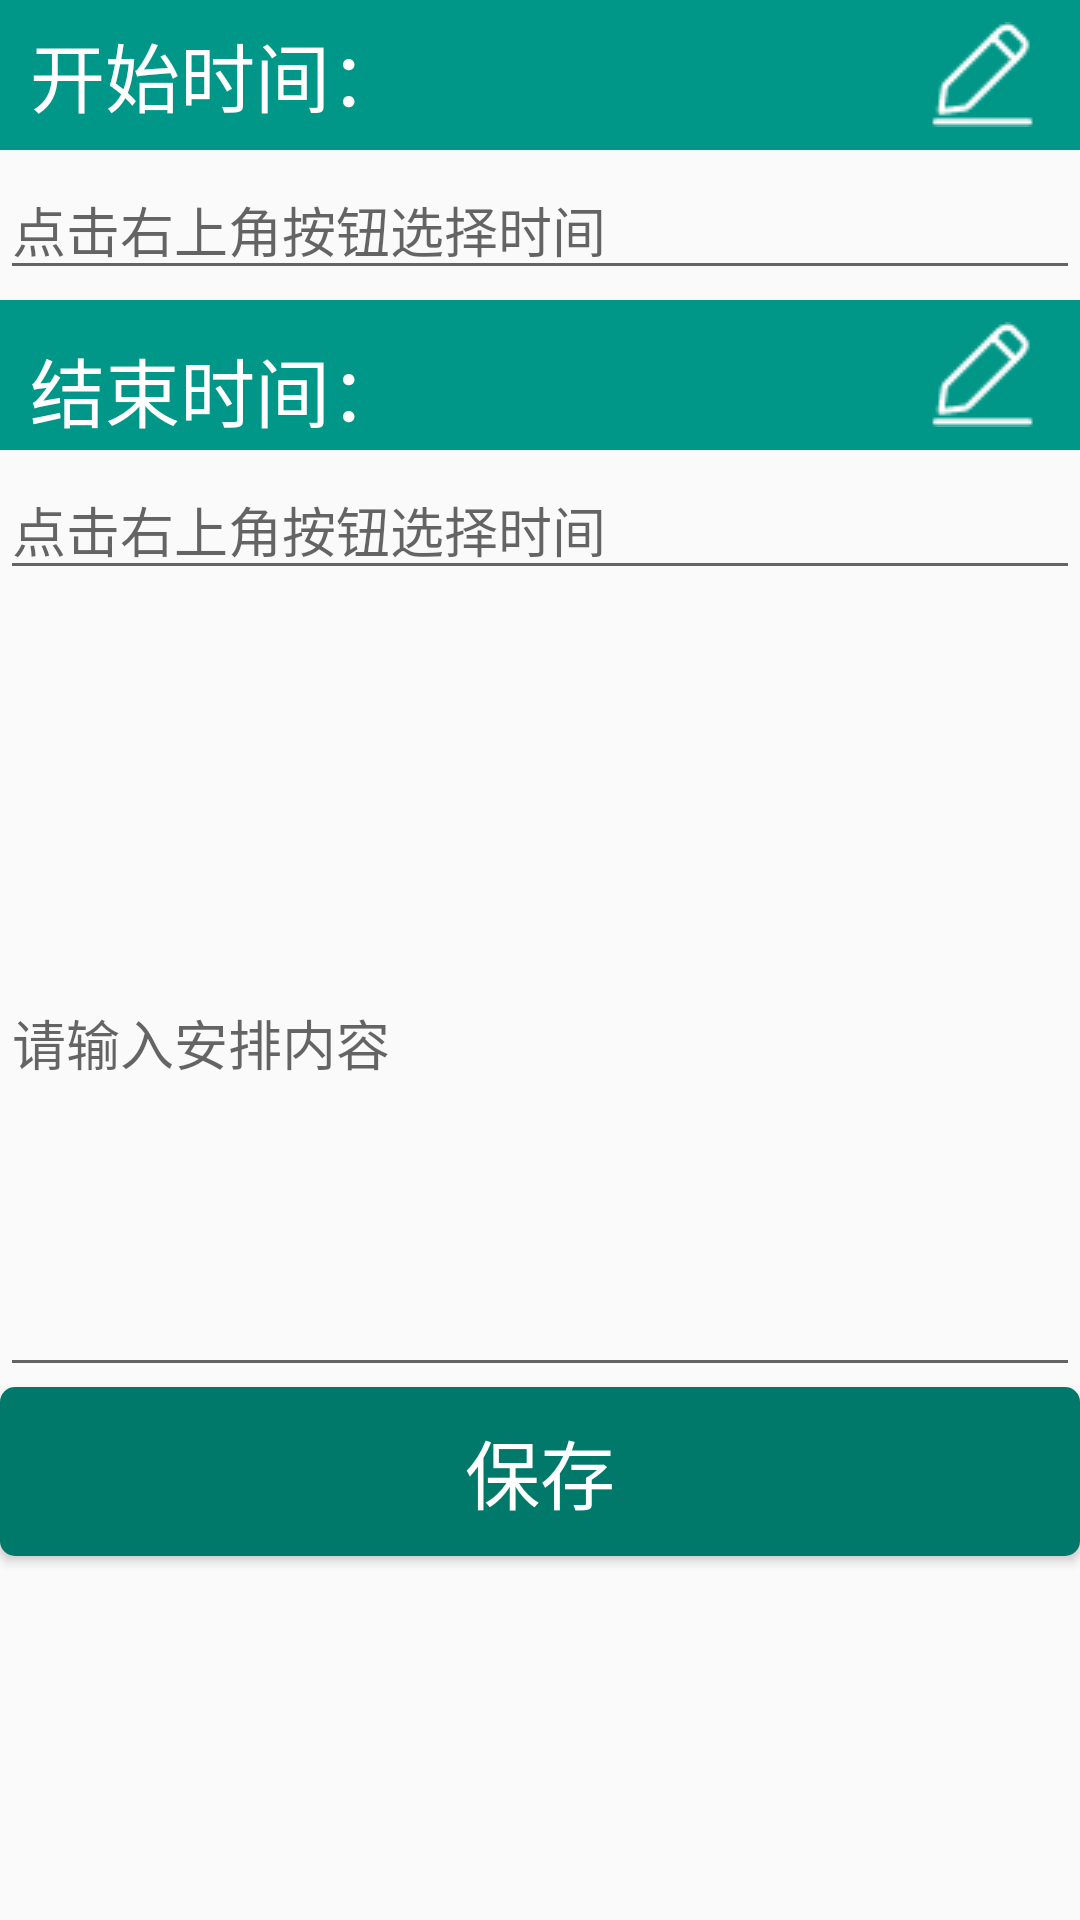

Point at icon controls on the screen. Image size 1080px x 1920px, points as (x=x, y=y).
write: (x=982, y=74), (x=982, y=374)
